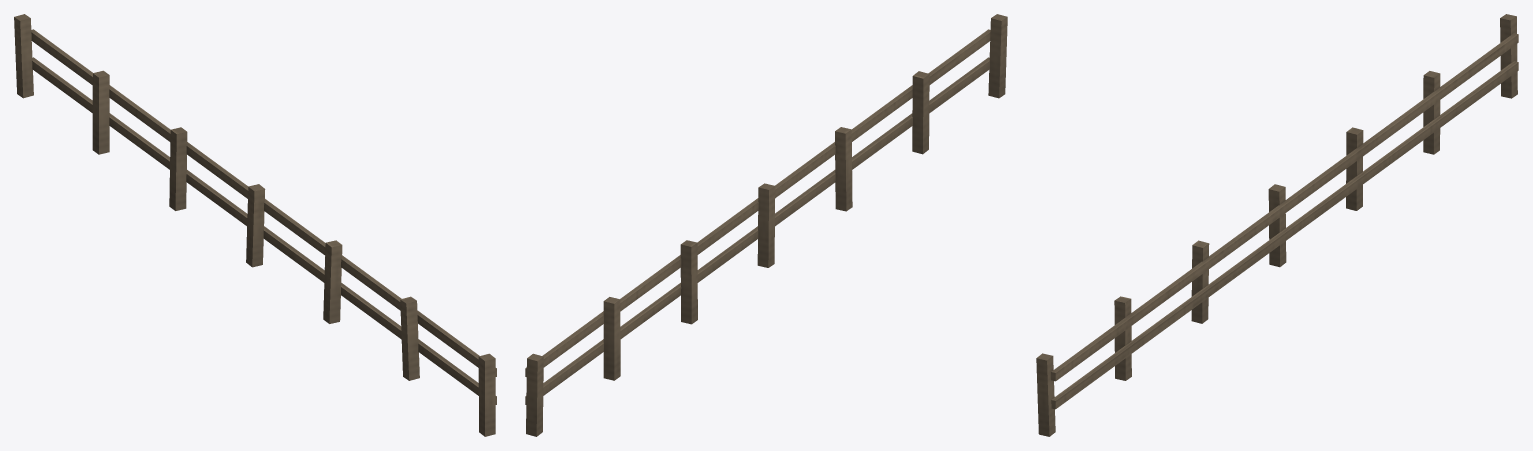
Rendered from fence-span.fbx.
3 renders of one model, left to right at view 1: azimuth 30°, elevation 25°; view 2: azimuth 150°, elevation 25°; view 3: azimuth 330°, elevation 25°, orthographic.
Parts seen in each view (by area): view 1: fence-span; view 2: fence-span; view 3: fence-span.
Part boxes in pixels (x1,y1,x2,y2): fence-span: (14,14,496,436); fence-span: (525,14,1007,436); fence-span: (1036,14,1518,436).
Bounding box in the file's own units: 1.2 × 5.54 × 60.94.
1 material, 1 textured.
